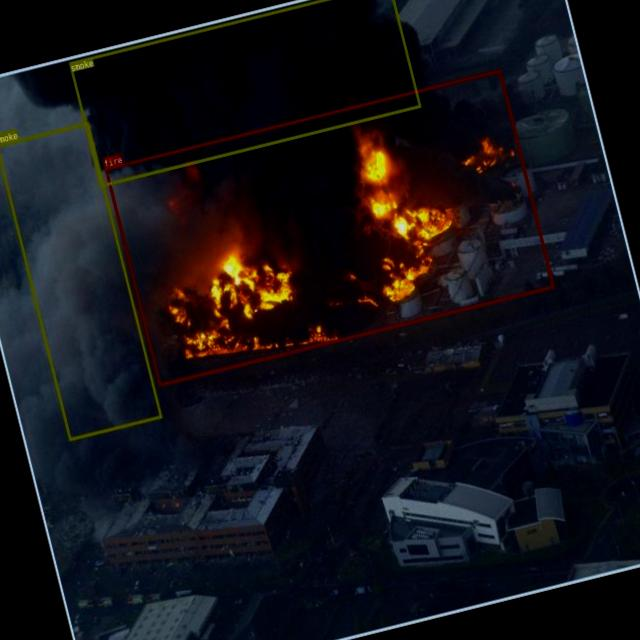fire: (104, 68, 554, 386)
smoke: (67, 0, 420, 186), (0, 120, 161, 440)
